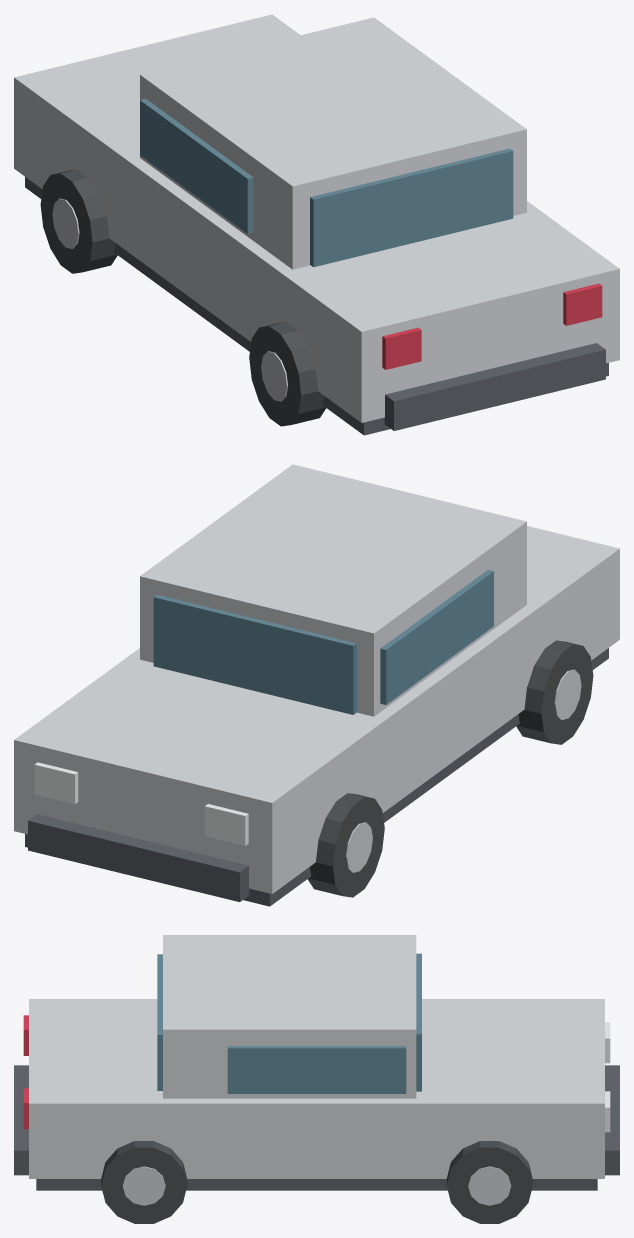
3 views of the same model, one above another, from view 1: azimuth 30°, elevation 25°; view 2: azimuth 150°, elevation 25°; view 3: azimuth 270°, elevation 25° (orthographic). The views are drawn at different scales.
Visible parts, largest first — view 1: BODY_main, BODY_cabin, WINDOW_rear, BODY_bumper_rear, WINDOW_side_-1, WHEEL_-1_1.2029999999999998, WHEEL_-1_-1.2029999999999998, BODY_lower, LIGHT_rear_-1, LIGHT_rear_1, WHEEL_-1_-1.2029999999999998_hub, WHEEL_-1_1.2029999999999998_hub; view 2: BODY_main, BODY_cabin, WINDOW_front, BODY_bumper_front, WINDOW_side_-1, WHEEL_-1_-1.2029999999999998, WHEEL_-1_1.2029999999999998, BODY_lower, LIGHT_front_1, LIGHT_front_-1, WHEEL_-1_-1.2029999999999998_hub, WHEEL_-1_1.2029999999999998_hub; view 3: BODY_main, BODY_cabin, WINDOW_side_1, BODY_lower, WHEEL_1_-1.2029999999999998, WHEEL_1_1.2029999999999998, BODY_bumper_front, BODY_bumper_rear, WHEEL_1_-1.2029999999999998_hub, WHEEL_1_1.2029999999999998_hub, WINDOW_front, WINDOW_rear.
Boxes of the visible parts, x1,y1,x2,y2 form: BODY_main: (14, 14, 619, 422); BODY_cabin: (140, 17, 526, 269); WINDOW_rear: (310, 148, 513, 267); BODY_bumper_rear: (384, 343, 605, 430); WINDOW_side_-1: (140, 98, 253, 233); WHEEL_-1_1.2029999999999998: (249, 322, 326, 426); WHEEL_-1_-1.2029999999999998: (40, 169, 117, 273); BODY_lower: (25, 177, 608, 435); LIGHT_rear_-1: (382, 327, 421, 369); LIGHT_rear_1: (563, 283, 602, 325); WHEEL_-1_-1.2029999999999998_hub: (52, 198, 79, 248); WHEEL_-1_1.2029999999999998_hub: (261, 351, 287, 401); BODY_main: (14, 526, 619, 893); BODY_cabin: (140, 464, 526, 716); WINDOW_front: (153, 594, 356, 714); BODY_bumper_front: (28, 814, 249, 901); WINDOW_side_-1: (380, 570, 493, 704); WHEEL_-1_-1.2029999999999998: (307, 793, 384, 897); WHEEL_-1_1.2029999999999998: (516, 640, 593, 744); BODY_lower: (25, 648, 608, 906); LIGHT_front_1: (34, 762, 78, 804); LIGHT_front_-1: (205, 804, 248, 845); WHEEL_-1_-1.2029999999999998_hub: (346, 822, 372, 872); WHEEL_-1_1.2029999999999998_hub: (554, 669, 581, 719); BODY_main: (29, 999, 604, 1178); BODY_cabin: (163, 935, 416, 1098); WINDOW_side_1: (227, 1046, 406, 1093); BODY_lower: (36, 1179, 597, 1190); WHEEL_1_-1.2029999999999998: (446, 1141, 532, 1223); WHEEL_1_1.2029999999999998: (101, 1141, 187, 1223); BODY_bumper_front: (605, 1065, 619, 1175); BODY_bumper_rear: (14, 1065, 28, 1175); WHEEL_1_-1.2029999999999998_hub: (468, 1166, 511, 1205); WHEEL_1_1.2029999999999998_hub: (122, 1166, 165, 1205); WINDOW_front: (416, 953, 421, 1091); WINDOW_rear: (157, 954, 162, 1090).
Size of the model in its own units: 1.96 by 1.4 by 4.22.
